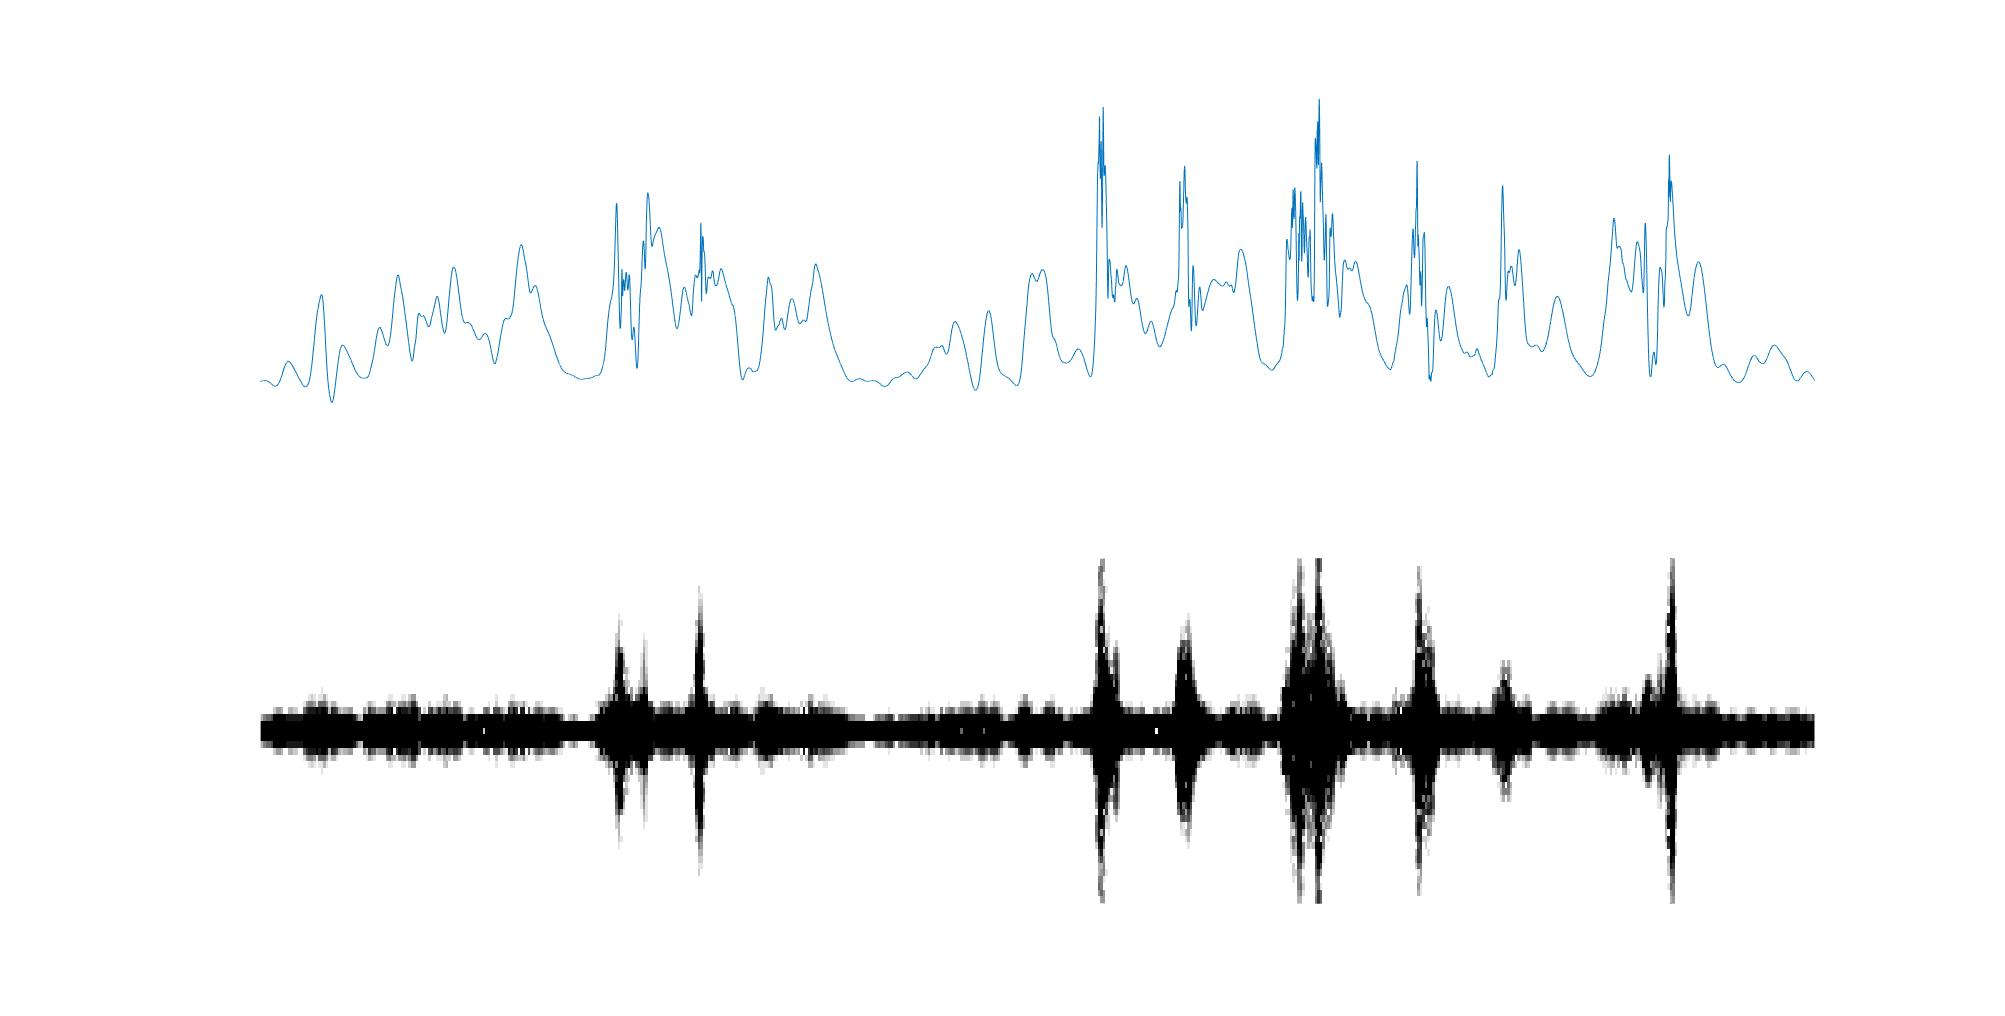spot: (1293, 559, 1335, 908), (1089, 557, 1124, 907), (692, 588, 708, 868)
